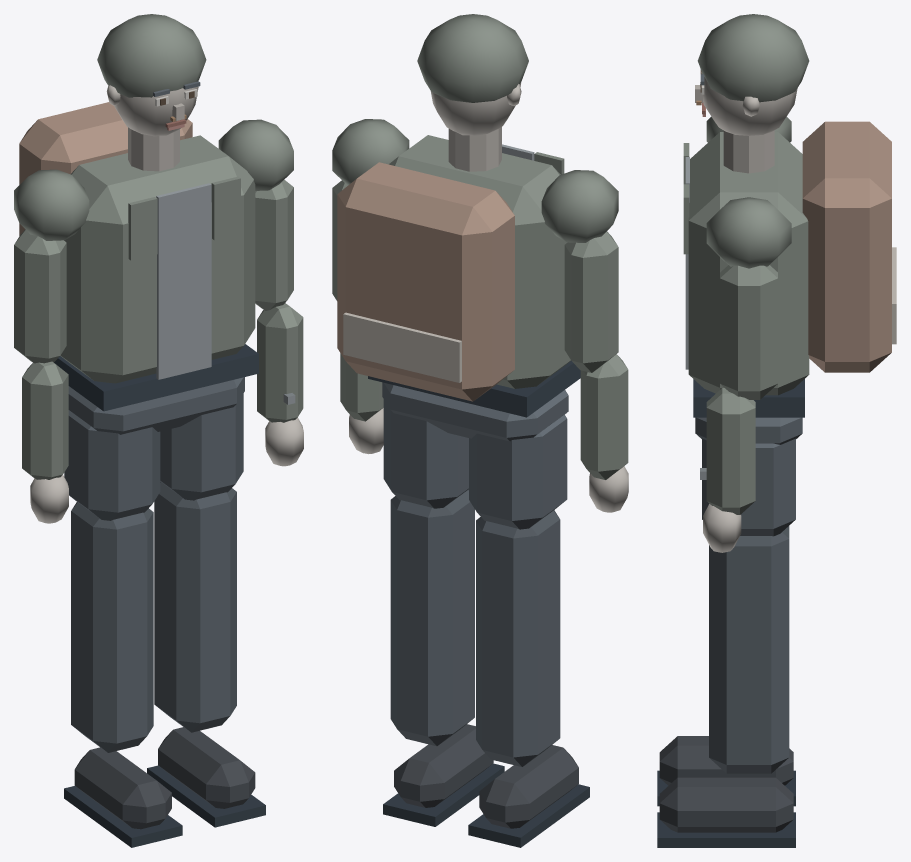
File: personaje_courier.glb
3 views of the same model, side by side, from view 1: azimuth 30°, elevation 25°; view 2: azimuth 150°, elevation 25°; view 3: azimuth 270°, elevation 25° (orthographic). The views are drawn at different scales.
Size of the model in its own units: 0.72 by 1.96 by 0.535.
